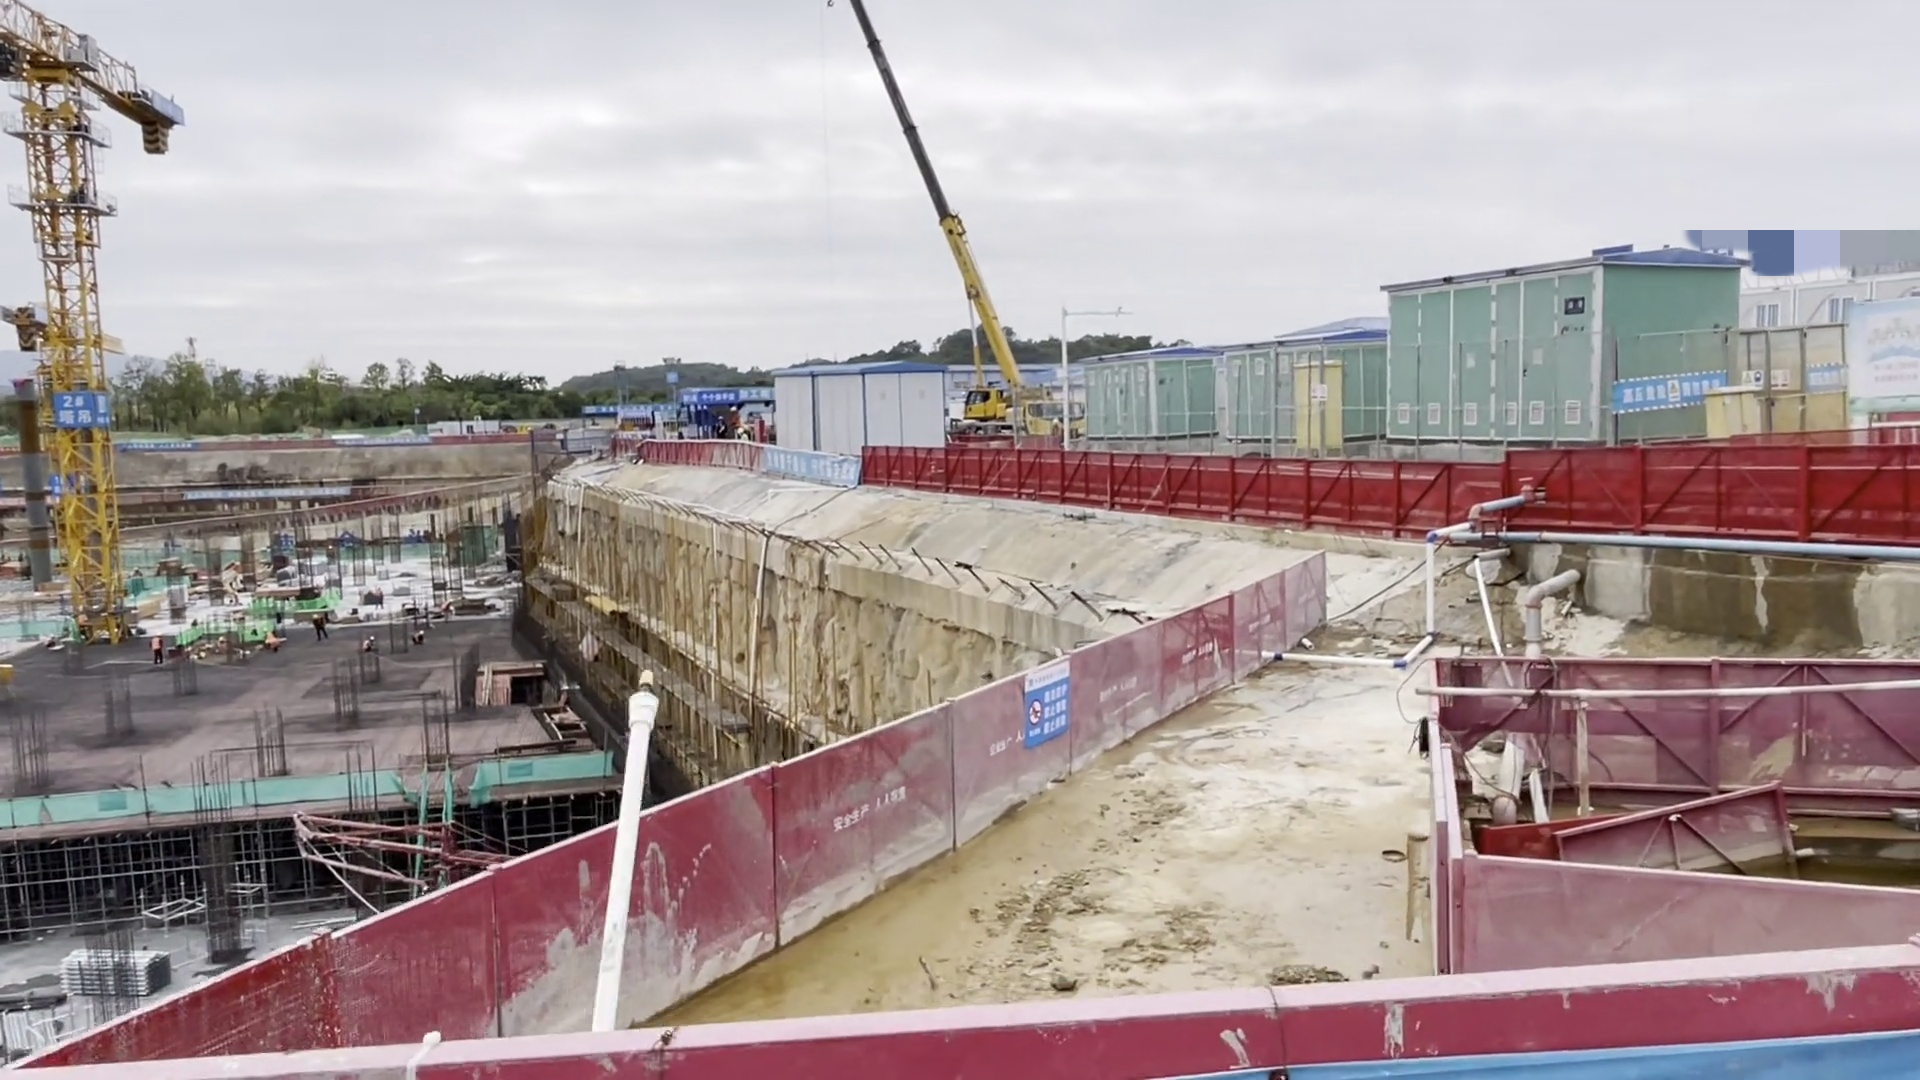slogan: (616, 422, 902, 514), (1604, 349, 1766, 418)
